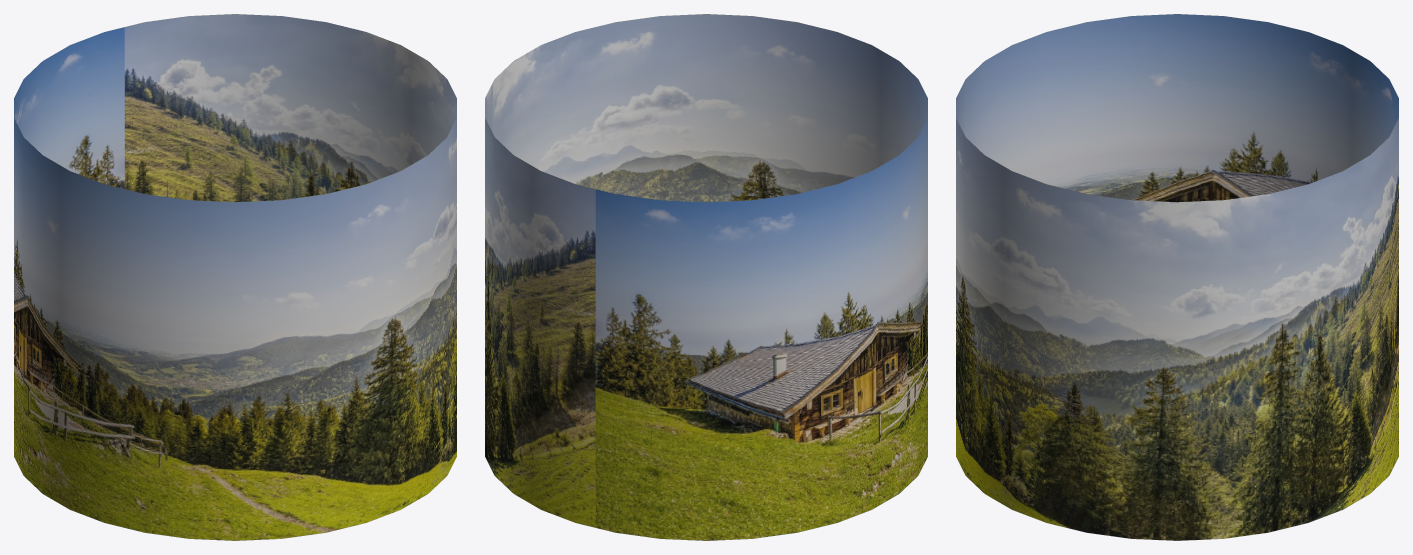
File: cilindro.fbx
The picture shows the model from 3 angles, left to right: view 1: azimuth 30°, elevation 25°; view 2: azimuth 150°, elevation 25°; view 3: azimuth 270°, elevation 25°; orthographic projection.
Visible parts, largest first — view 1: cilindro; view 2: cilindro; view 3: cilindro.
Part boxes in pixels (x1,y1,x2,y2): cilindro: (14, 14, 456, 540); cilindro: (485, 14, 927, 540); cilindro: (956, 14, 1398, 540).
Size of the model in its own units: 79.24 by 66.51 by 78.81.
Materials: 1 (1 with a texture image).
